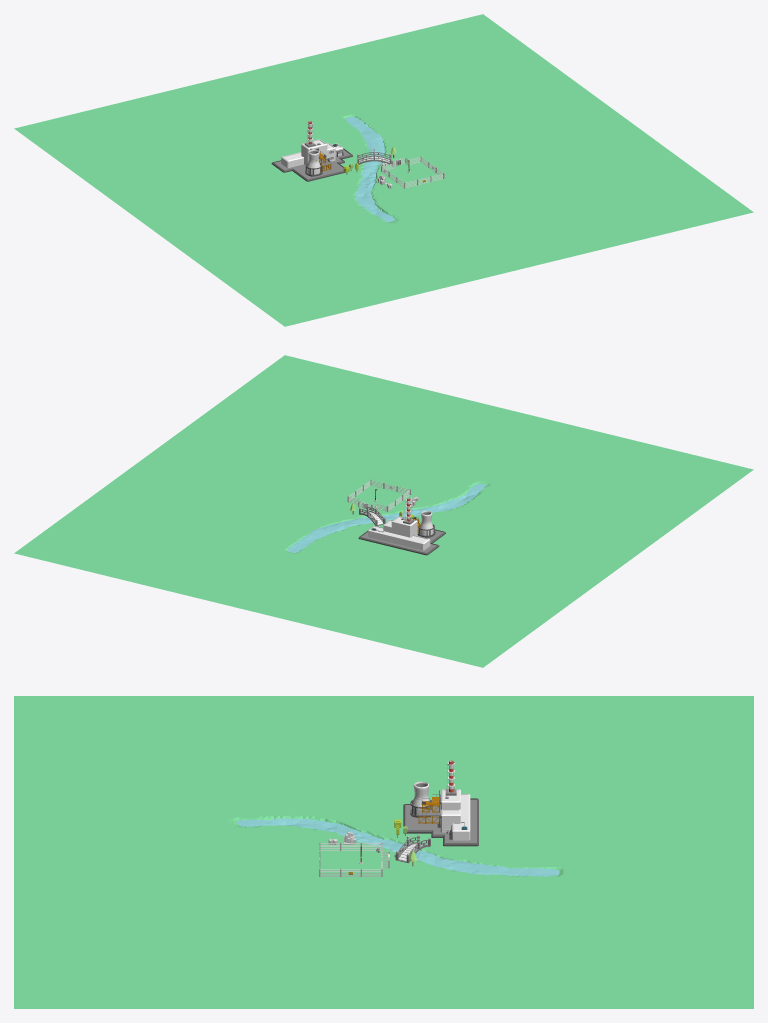
Rendered from PolePlacementLevelScene.fbx.
3 views of the same model, one above another, from view 1: azimuth 30°, elevation 25°; view 2: azimuth 150°, elevation 25°; view 3: azimuth 270°, elevation 25° (orthographic). The views are drawn at different scales.
Parts seen in each view (by area): view 1: Plane, Cube.018, Plane.001, Cube.037; view 2: Plane, Cube.018, Plane.001, Cube.037; view 3: Plane, Cube.018, Plane.001, Cube.037.
Part boxes in pixels (bbox=[...]): Plane: bbox=[14, 14, 753, 326]; Cube.018: bbox=[271, 121, 352, 181]; Plane.001: bbox=[345, 116, 395, 222]; Cube.037: bbox=[381, 156, 444, 188]; Plane: bbox=[14, 355, 753, 667]; Cube.018: bbox=[358, 498, 445, 555]; Plane.001: bbox=[287, 484, 486, 552]; Cube.037: bbox=[347, 479, 410, 511]; Plane: bbox=[14, 696, 753, 1008]; Cube.018: bbox=[403, 760, 478, 846]; Plane.001: bbox=[238, 818, 559, 876]; Cube.037: bbox=[319, 842, 389, 876].
Size of the model in its own units: 80.61 by 7.67 by 80.61.
